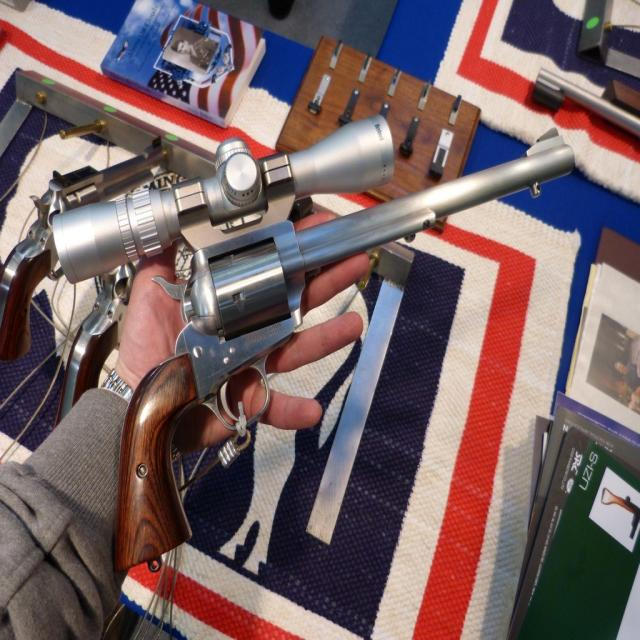pistol: (51, 113, 576, 572), (0, 130, 168, 364)
